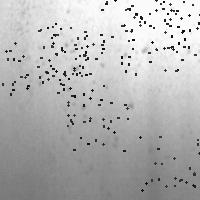pitted_surface: (21, 6, 95, 147), (121, 13, 181, 73), (43, 34, 103, 92), (67, 93, 127, 150), (139, 136, 198, 189), (37, 23, 87, 83), (100, 0, 155, 41), (160, 0, 200, 54), (0, 40, 27, 95)
